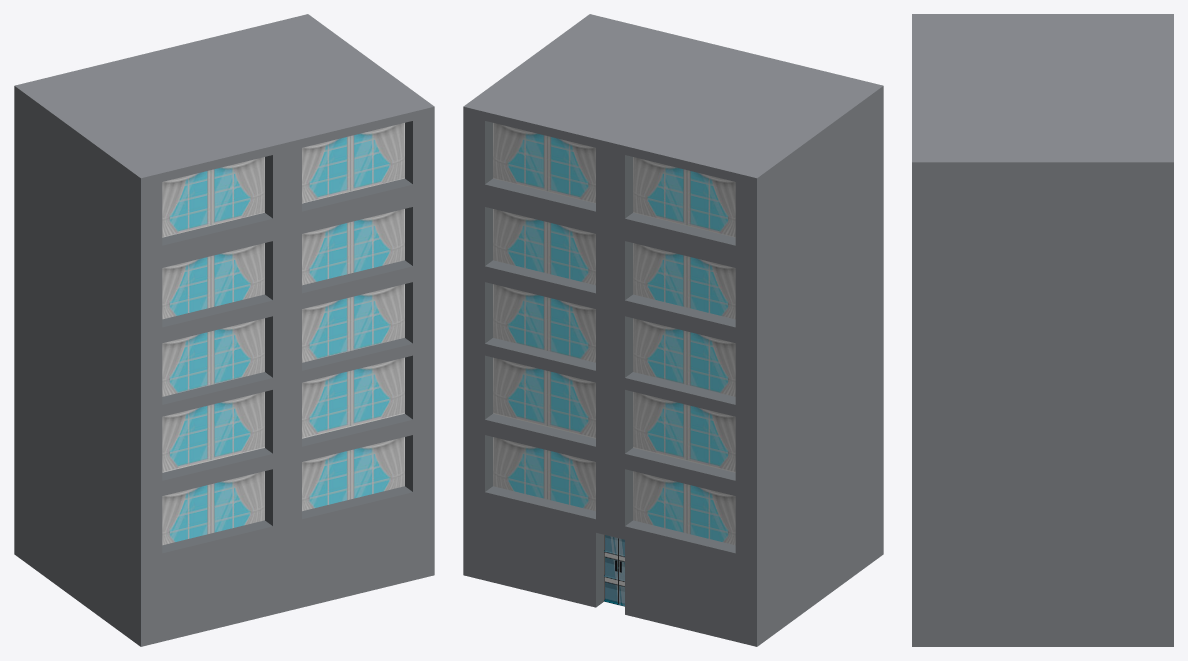
Rendered from edificio.fbx.
The picture shows the model from 3 angles, left to right: view 1: azimuth 30°, elevation 25°; view 2: azimuth 150°, elevation 25°; view 3: azimuth 270°, elevation 25°; orthographic projection. The views are drawn at different scales.
Parts seen in each view (by area): view 1: pCube1; view 2: pCube1; view 3: pCube1.
Boxes of the visible parts, x1,y1,x2,y2 form: pCube1: (14,14,434,646); pCube1: (463,14,883,646); pCube1: (912,14,1173,646).
Bounding box in the file's own units: 79.98 × 122 × 59.66.
Materials: 1 (1 with a texture image).
